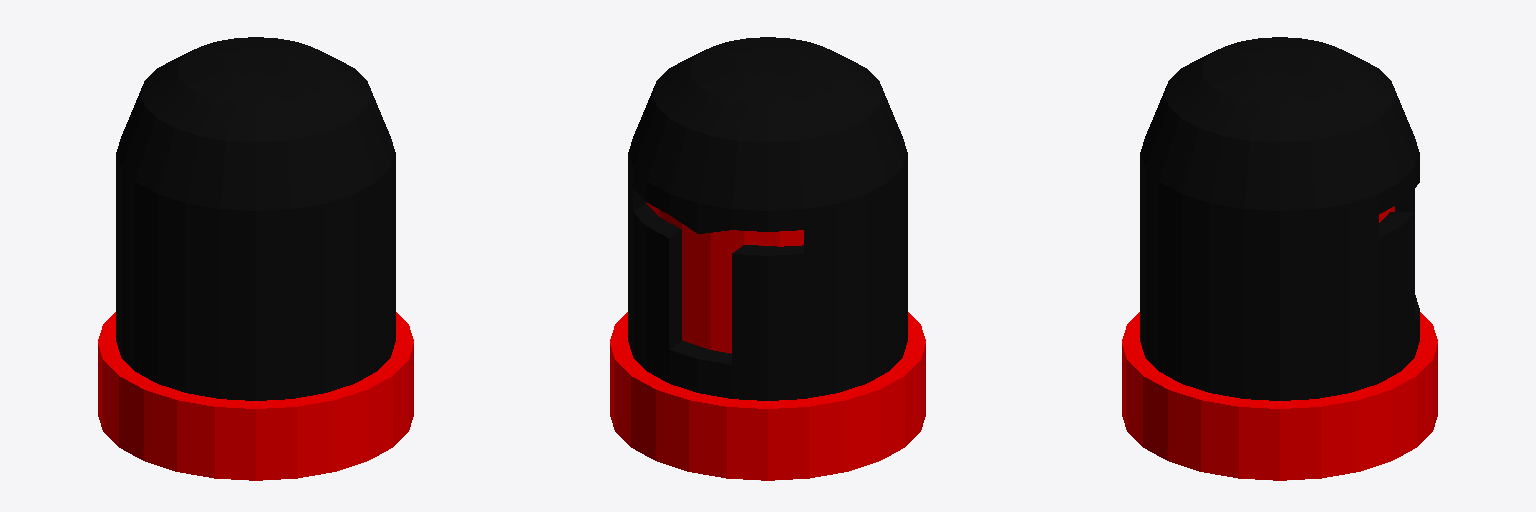
File: enemytank.obj
3 views of the same model, side by side, from view 1: azimuth 30°, elevation 25°; view 2: azimuth 150°, elevation 25°; view 3: azimuth 270°, elevation 25° (orthographic).
Parts seen in each view (by area): view 1: EnemyTank_Cylinder.003; view 2: EnemyTank_Cylinder.003; view 3: EnemyTank_Cylinder.003.
Boxes of the visible parts, <box> form: EnemyTank_Cylinder.003: <box>98,37,413,480</box>; EnemyTank_Cylinder.003: <box>610,37,925,480</box>; EnemyTank_Cylinder.003: <box>1122,37,1437,480</box>.
Size of the model in its own units: 1 by 1.34 by 1.